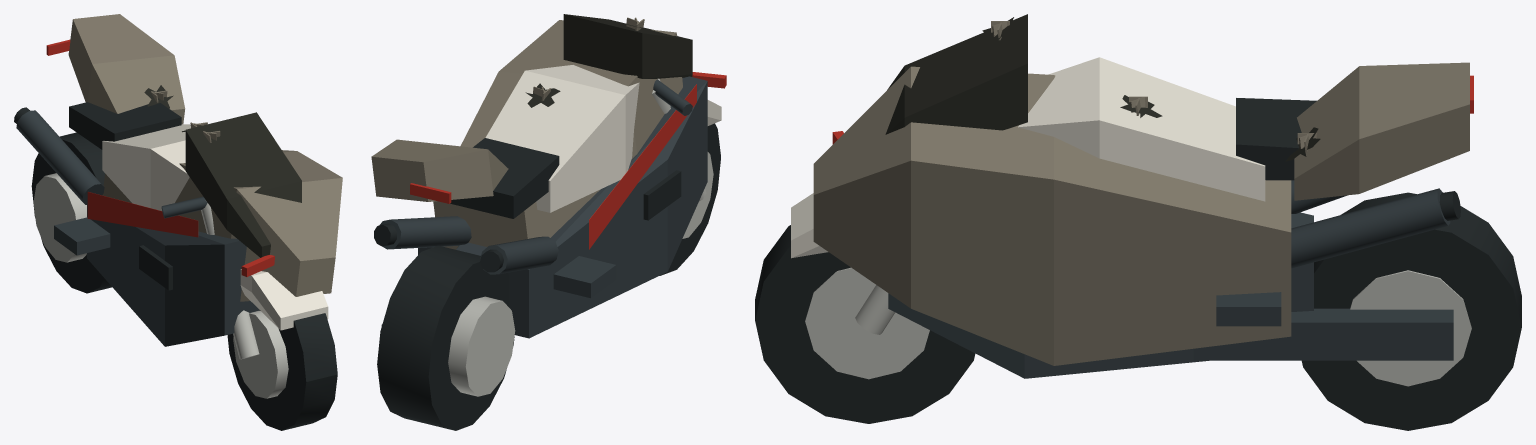
3 views of the same model, side by side, from view 1: azimuth 30°, elevation 25°; view 2: azimuth 150°, elevation 25°; view 3: azimuth 270°, elevation 25° (orthographic). The views are drawn at different scales.
Parts seen in each view (by area): view 1: motorcycle-damaged-fleet-damage-metal, motorcycle-damaged-fleet-machine, motorcycle-damaged-fleet-damage-charred, front-wheel-fleet-rubber, motorcycle-damaged-fleet-armor, motorcycle-damaged-fleet-rubber, motorcycle-damaged-fleet-red, front-wheel-fleet-edge, rear-wheel-fleet-rubber, steering-fleet-armor, rear-wheel-fleet-edge, steering-fleet-edge (+1 smaller); view 2: motorcycle-damaged-fleet-machine, motorcycle-damaged-fleet-damage-metal, rear-wheel-fleet-rubber, motorcycle-damaged-fleet-armor, motorcycle-damaged-fleet-damage-charred, motorcycle-damaged-fleet-rubber, rear-wheel-fleet-edge, motorcycle-damaged-fleet-red, front-wheel-fleet-rubber, front-wheel-fleet-edge, steering-fleet-machine; view 3: motorcycle-damaged-fleet-damage-metal, motorcycle-damaged-fleet-machine, rear-wheel-fleet-rubber, motorcycle-damaged-fleet-armor, front-wheel-fleet-rubber, motorcycle-damaged-fleet-damage-charred, front-wheel-fleet-edge, rear-wheel-fleet-edge, motorcycle-damaged-fleet-rubber, steering-fleet-armor, steering-fleet-edge.
Boxes of the visible parts, left/top/right/bottom form: motorcycle-damaged-fleet-damage-metal: left=68, top=14, right=342, bottom=301; motorcycle-damaged-fleet-machine: left=16, top=110, right=259, bottom=346; motorcycle-damaged-fleet-damage-charred: left=144, top=85, right=301, bottom=257; front-wheel-fleet-rubber: left=227, top=310, right=337, bottom=430; motorcycle-damaged-fleet-armor: left=102, top=124, right=190, bottom=210; motorcycle-damaged-fleet-rubber: left=14, top=102, right=181, bottom=290; motorcycle-damaged-fleet-red: left=46, top=39, right=274, bottom=276; front-wheel-fleet-edge: left=233, top=310, right=288, bottom=398; rear-wheel-fleet-rubber: left=31, top=132, right=111, bottom=293; steering-fleet-armor: left=240, top=269, right=328, bottom=330; rear-wheel-fleet-edge: left=33, top=173, right=86, bottom=262; steering-fleet-edge: left=201, top=203, right=259, bottom=359; motorcycle-damaged-fleet-machine: left=380, top=76, right=707, bottom=338; motorcycle-damaged-fleet-damage-metal: left=371, top=17, right=682, bottom=249; rear-wheel-fleet-rubber: left=377, top=245, right=514, bottom=430; motorcycle-damaged-fleet-armor: left=485, top=65, right=639, bottom=212; motorcycle-damaged-fleet-damage-charred: left=525, top=14, right=692, bottom=107; motorcycle-damaged-fleet-rubber: left=374, top=138, right=681, bottom=272; rear-wheel-fleet-edge: left=448, top=296, right=515, bottom=396; motorcycle-damaged-fleet-red: left=410, top=72, right=726, bottom=249; front-wheel-fleet-rubber: left=659, top=123, right=720, bottom=275; front-wheel-fleet-edge: left=682, top=152, right=713, bottom=238; steering-fleet-machine: left=653, top=79, right=692, bottom=115; motorcycle-damaged-fleet-damage-metal: left=813, top=21, right=1469, bottom=365; motorcycle-damaged-fleet-machine: left=888, top=180, right=1453, bottom=378; rear-wheel-fleet-rubber: left=1301, top=192, right=1521, bottom=430; motorcycle-damaged-fleet-armor: left=1018, top=57, right=1265, bottom=201; front-wheel-fleet-rubber: left=755, top=225, right=975, bottom=423; motorcycle-damaged-fleet-damage-charred: left=885, top=14, right=1320, bottom=161; front-wheel-fleet-edge: left=805, top=267, right=929, bottom=379; rear-wheel-fleet-edge: left=1350, top=270, right=1471, bottom=386; motorcycle-damaged-fleet-rubber: left=1236, top=98, right=1460, bottom=220; steering-fleet-armor: left=791, top=193, right=827, bottom=258; steering-fleet-edge: left=855, top=285, right=895, bottom=334.
Size of the model in its own units: 4.33 by 6.62 by 12.37.
